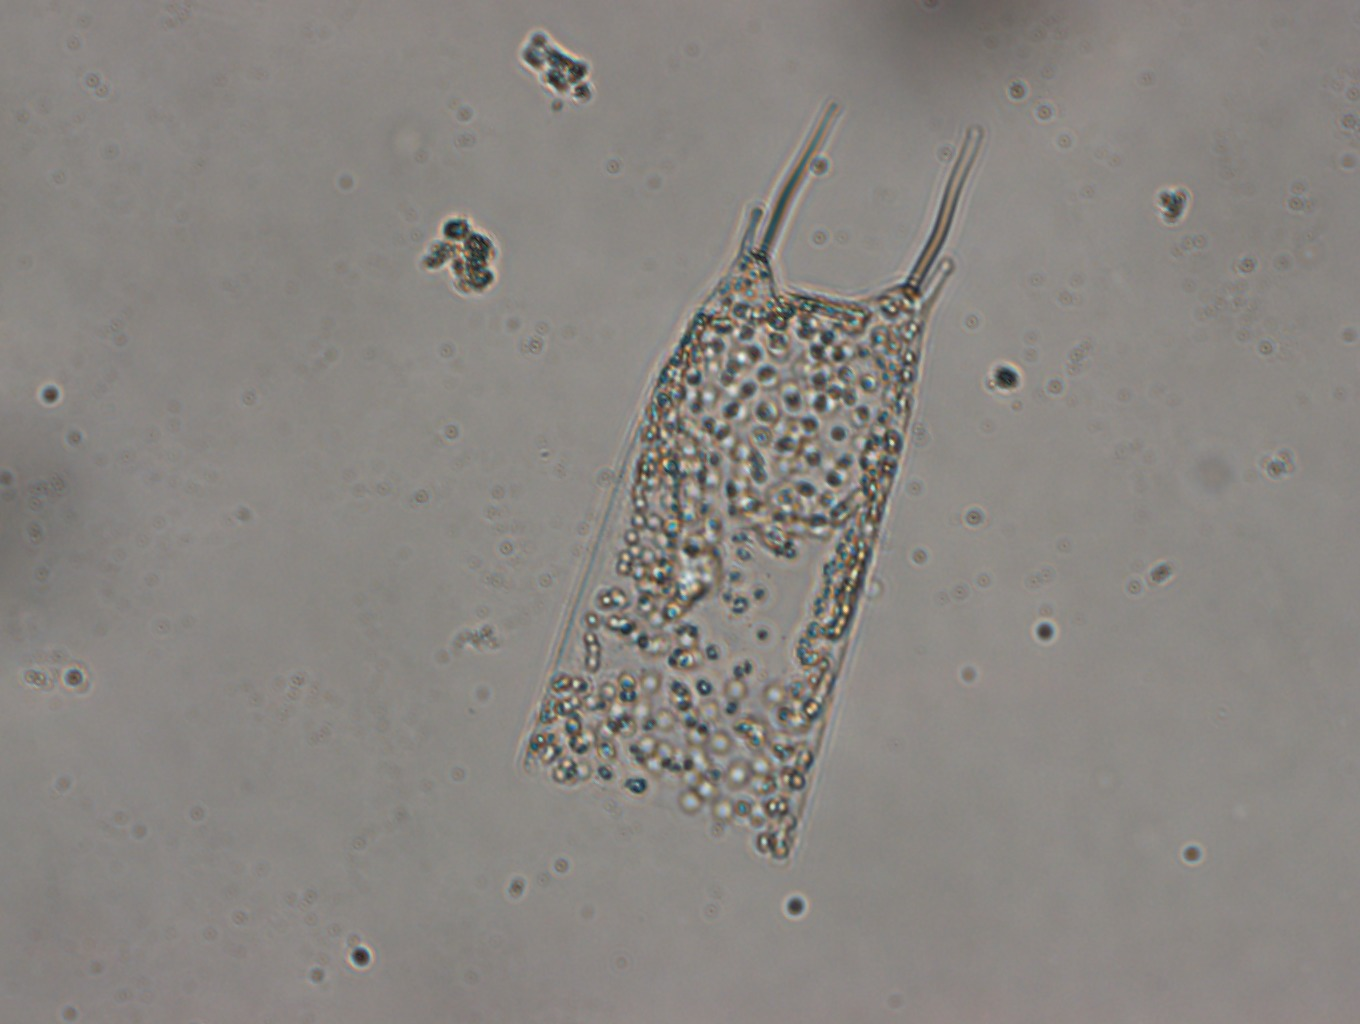biddulphia: (515, 93, 986, 864)
